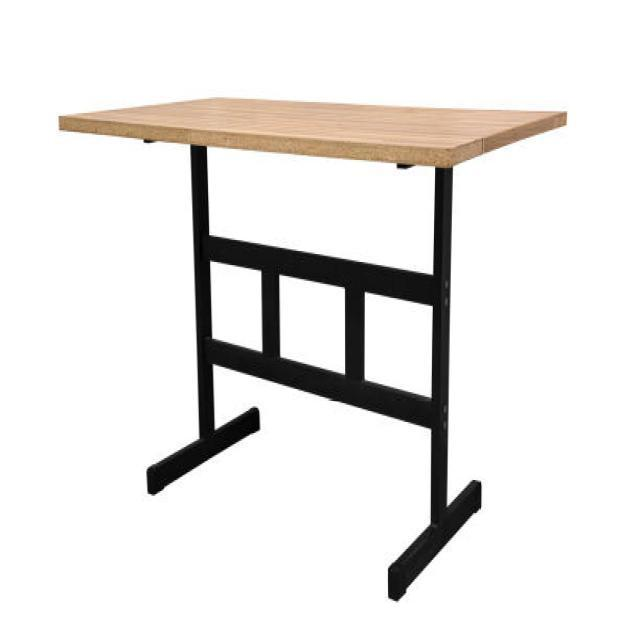table: (57, 94, 567, 601)
